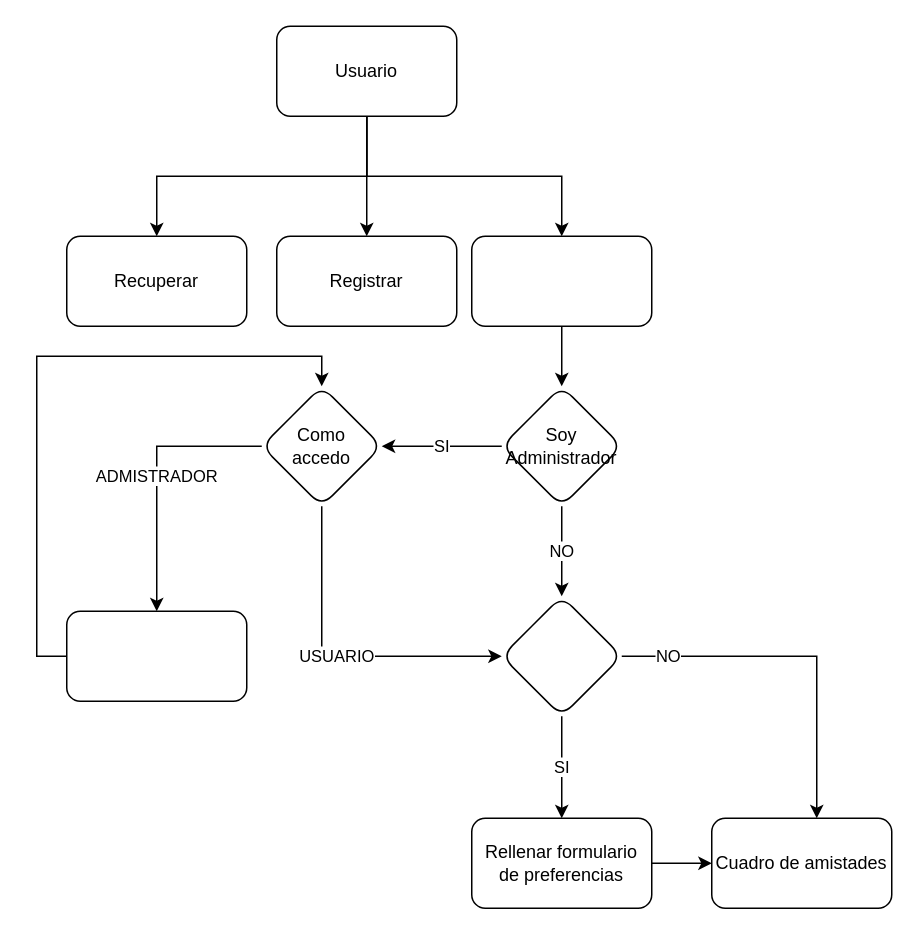
This 918x935 diagram has some shape labels left out. Here are the shapes that lost their labels. From the top down, the centre of each, then its label:
At (561,280): "Acceder".
At (156,655): "Gestión de usuarios".
At (561,655): "Es 1er acceso".
